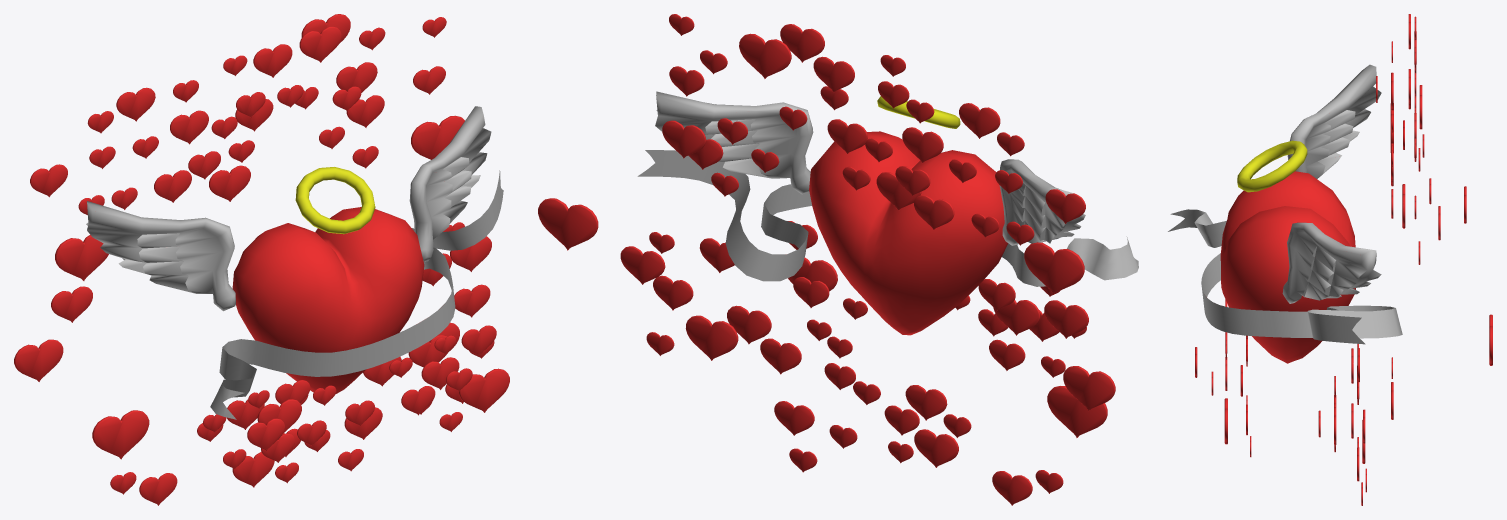
The model's file is heartangle.fbx.
The picture shows the model from 3 angles, left to right: view 1: azimuth 30°, elevation 25°; view 2: azimuth 150°, elevation 25°; view 3: azimuth 270°, elevation 25°; orthographic projection. The views are drawn at different scales.
Visible parts, largest first — view 1: heartangle; view 2: heartangle; view 3: heartangle.
Part boxes in pixels (<box>): heartangle: <box>14,14,509,505</box>; heartangle: <box>538,14,1138,505</box>; heartangle: <box>1168,14,1492,505</box>.
Bounding box in the file's own units: 88.97 × 74.25 × 52.07.
